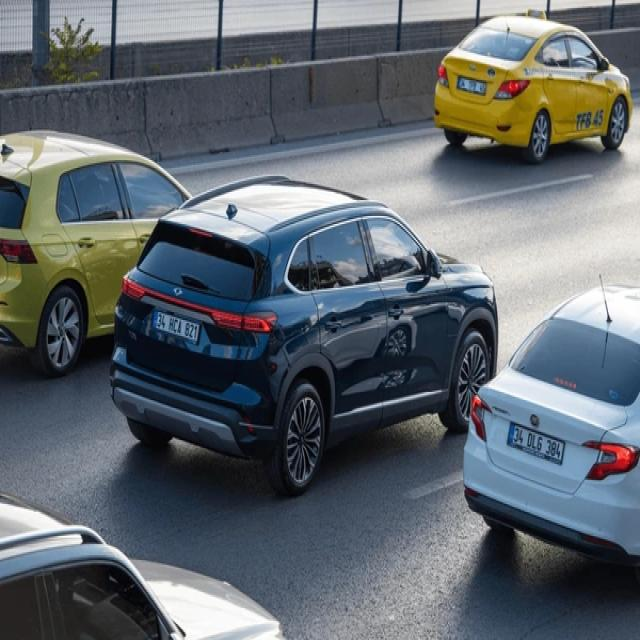togg: (174, 285, 183, 297)
